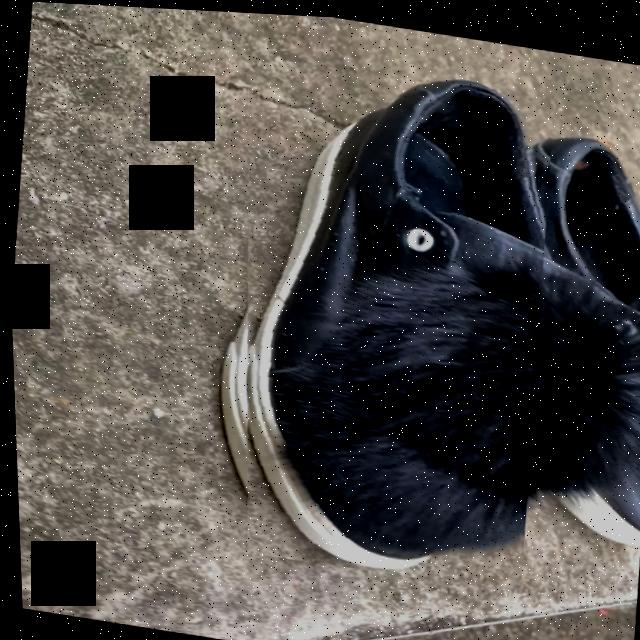shoe: (240, 78, 546, 568)
